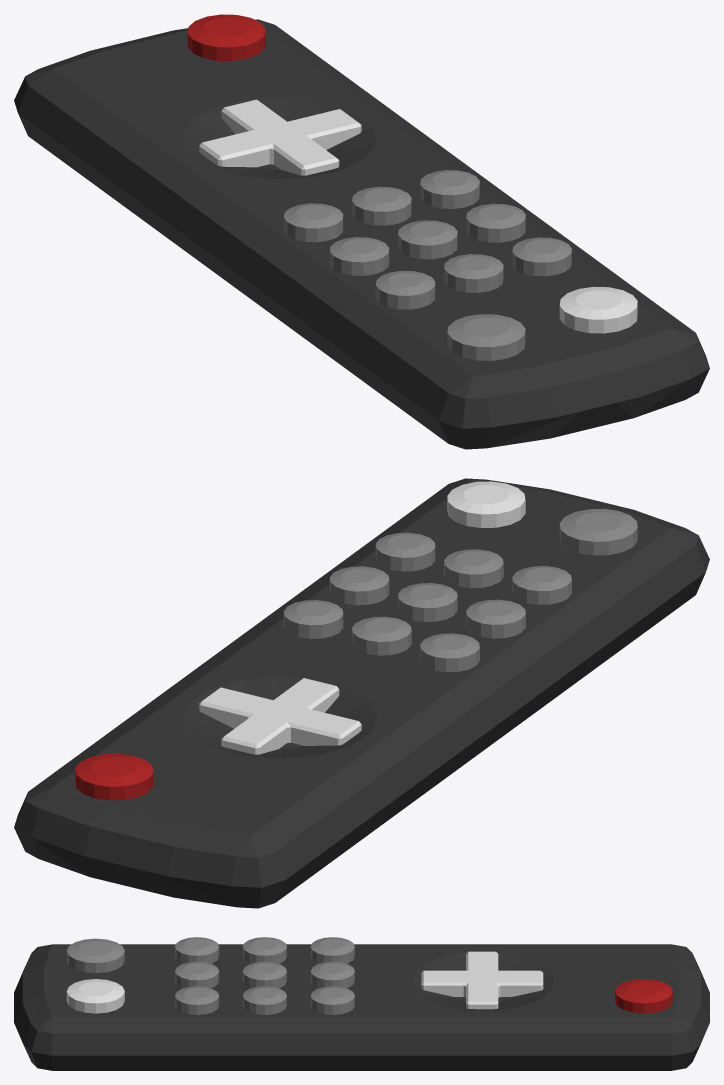
File: daf5486c-e7d0-429c-93b7-18094fced37e.glb
3 renders of one model, top to bottom at view 1: azimuth 30°, elevation 25°; view 2: azimuth 150°, elevation 25°; view 3: azimuth 270°, elevation 25°, orthographic. The views are drawn at different scales.
Visible parts, largest first — view 1: Remote_Controller; view 2: Remote_Controller; view 3: Remote_Controller.
Boxes of the visible parts, left/top/right/bottom form: Remote_Controller: left=14, top=14, right=709, bottom=449; Remote_Controller: left=14, top=478, right=709, bottom=908; Remote_Controller: left=14, top=937, right=709, bottom=1070.
Bounding box in the file's own units: 14.71 × 4.67 × 44.99.
Materials: 1 (1 with a texture image).
